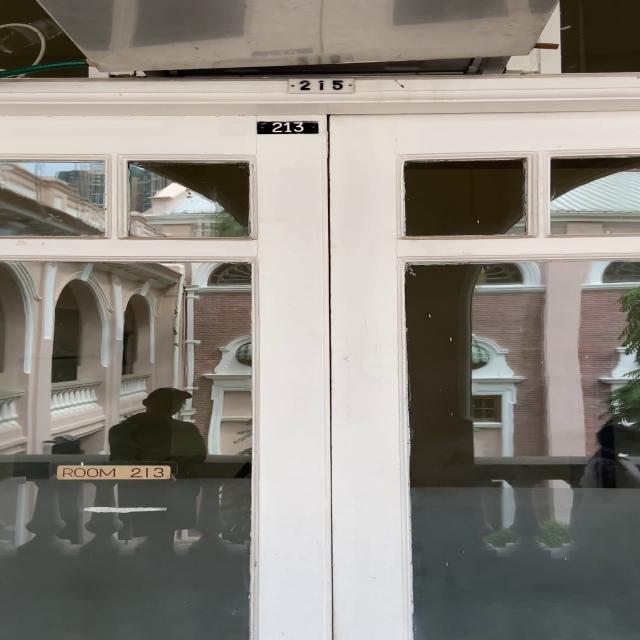room213: (252, 118, 326, 134)
